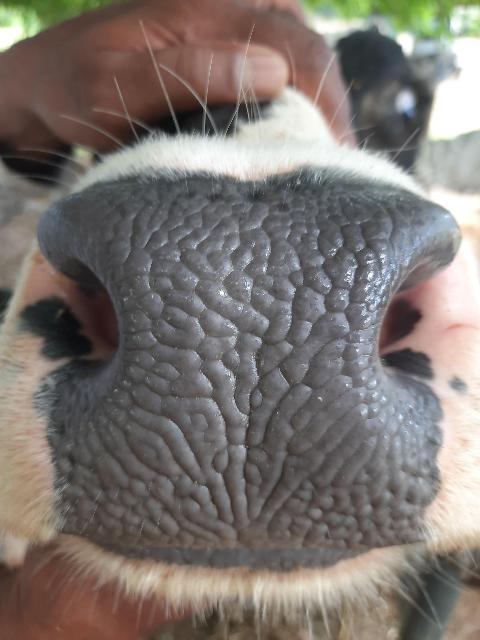Muzzle: (85, 202, 404, 546)
